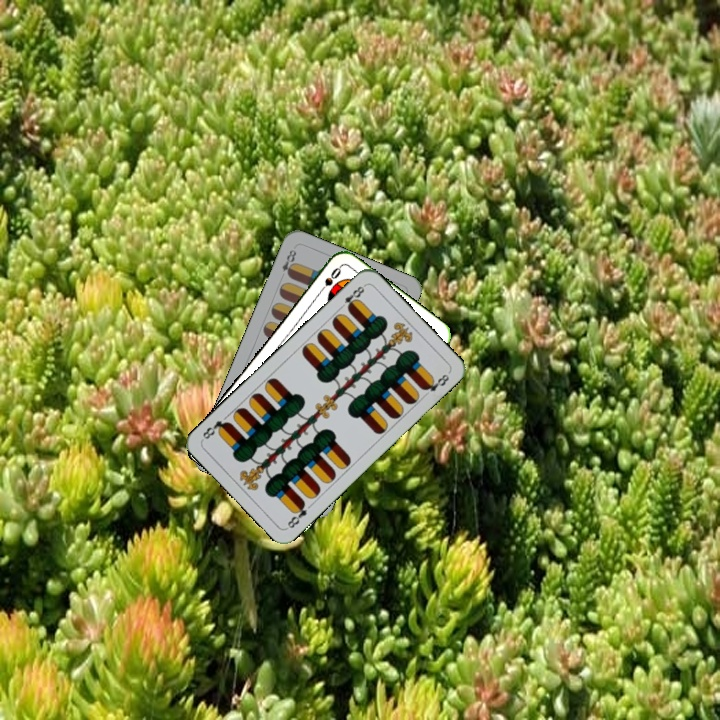E8: (335, 281, 368, 313), (283, 497, 310, 531), (278, 244, 299, 280)
SO: (314, 263, 344, 297)
